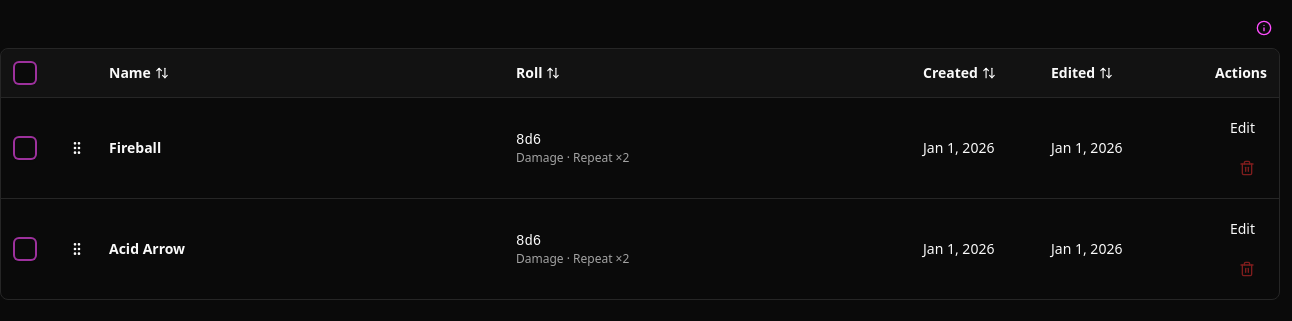
it: SavedRollGrid › defaults to ascending manual order and enables drag only in that view
Expected: the button named "Move Fireball" is enabled, [57,130,97,166]
Expected: the column heading "Order" is not shown
Click the button "Created" at (959,73), box [923,53,996,93]
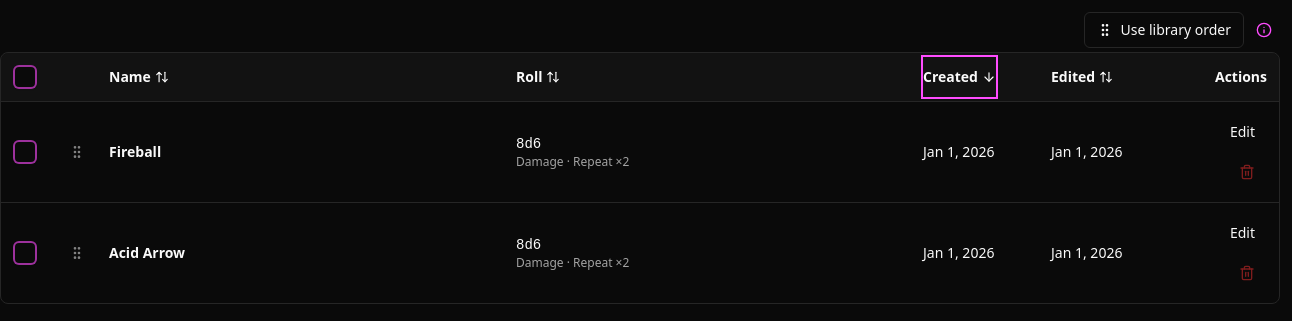
Now the button named "Move Fireball" is disabled, box [57,134,97,170]
Click the button "Use library order" at (1164,30), box [1084,12,1244,48]
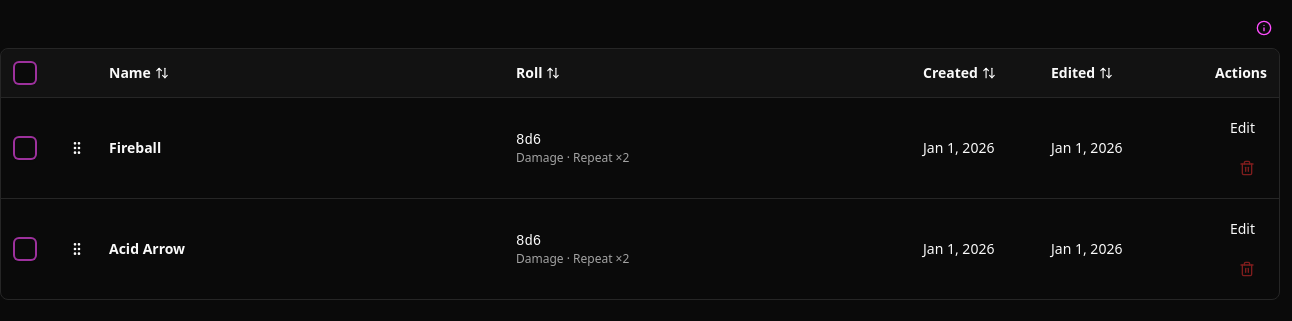
Now the button named "Move Fireball" is enabled, box [57,130,97,166]
